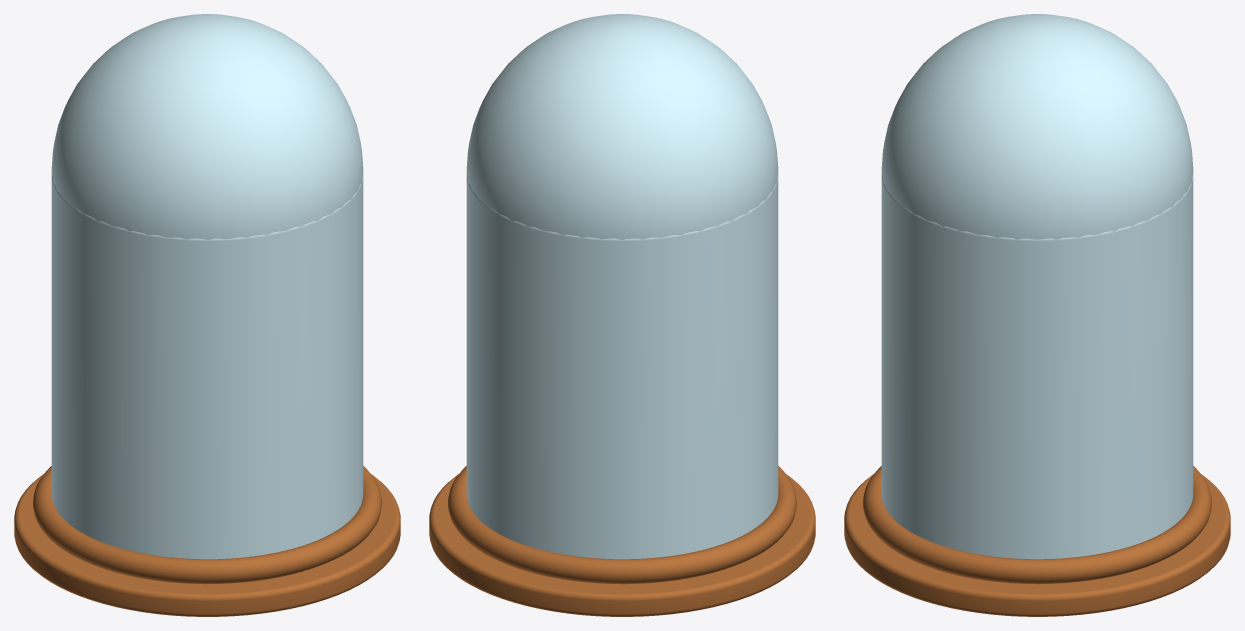
File: theme_08.glb
3 renders of one model, left to right at view 1: azimuth 30°, elevation 25°; view 2: azimuth 150°, elevation 25°; view 3: azimuth 270°, elevation 25°, orthographic.
Parts seen in each view (by area): view 1: theme_08; view 2: theme_08; view 3: theme_08.
Boxes of the visible parts, box(x1,y1,x2,y2) form: theme_08: box(14, 14, 400, 616); theme_08: box(429, 14, 815, 616); theme_08: box(844, 14, 1230, 616).
Size of the model in its own units: 1.24 by 1.8 by 1.24.
